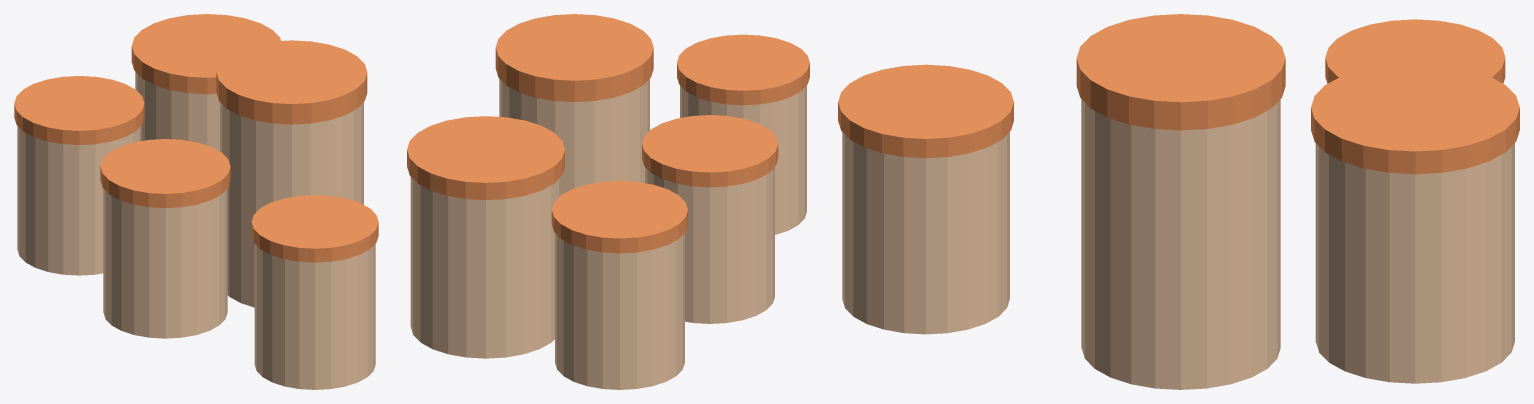
The model's file is woodjar.fbx.
The picture shows the model from 3 angles, left to right: view 1: azimuth 30°, elevation 25°; view 2: azimuth 150°, elevation 25°; view 3: azimuth 270°, elevation 25°; orthographic projection. The views are drawn at different scales.
Visible parts, largest first — view 1: Wood jar; view 2: Wood jar; view 3: Wood jar.
Boxes of the visible parts, x1=… form: Wood jar: x1=14, y1=14, x2=378, y2=389; Wood jar: x1=407, y1=14, x2=809, y2=389; Wood jar: x1=838, y1=14, x2=1519, y2=389.
Size of the model in its own units: 58.98 by 47.29 by 101.
